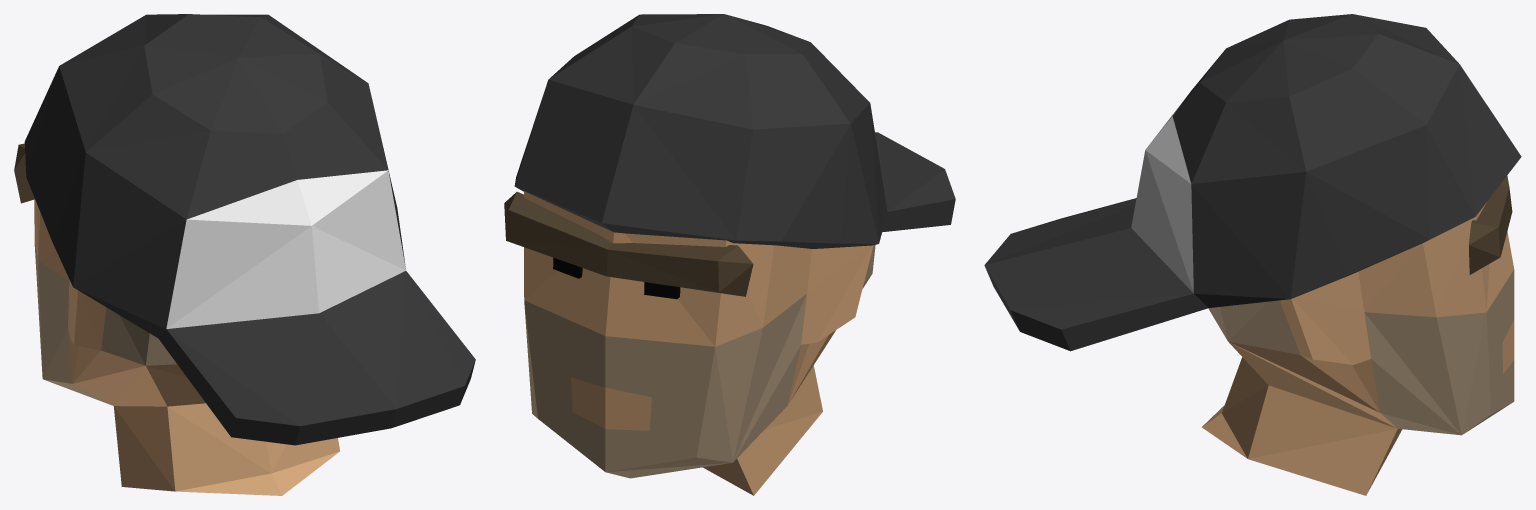
Rendered from Head.obj.
3 views of the same model, side by side, from view 1: azimuth 30°, elevation 25°; view 2: azimuth 150°, elevation 25°; view 3: azimuth 270°, elevation 25° (orthographic). The views are drawn at different scales.
Bounding box in the file's own units: 0.2734 × 0.3625 × 0.4127.
Materials: 1 (1 with a texture image).
